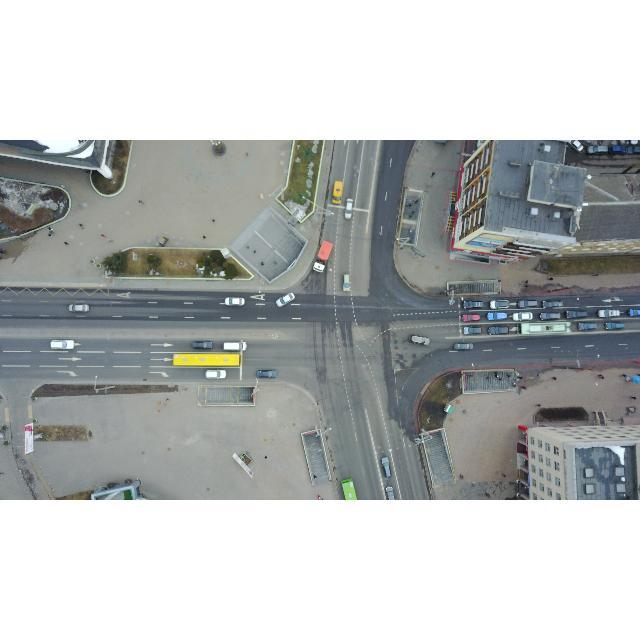vehicle: (311, 241, 334, 273), (276, 292, 296, 308), (49, 338, 75, 350), (596, 308, 622, 320), (332, 181, 344, 205), (222, 341, 248, 352), (68, 302, 90, 314), (408, 334, 430, 346), (380, 456, 392, 478), (487, 324, 509, 336), (490, 298, 510, 310), (516, 299, 540, 309), (192, 340, 214, 350), (566, 309, 588, 319), (542, 298, 564, 308), (604, 320, 626, 330), (538, 312, 562, 321), (223, 297, 244, 307), (487, 312, 508, 322), (462, 299, 483, 309), (205, 369, 228, 378), (344, 199, 354, 219), (454, 341, 474, 351), (463, 326, 483, 336), (512, 312, 532, 322), (341, 274, 352, 292), (256, 369, 278, 378), (576, 322, 598, 331), (462, 314, 481, 322)
